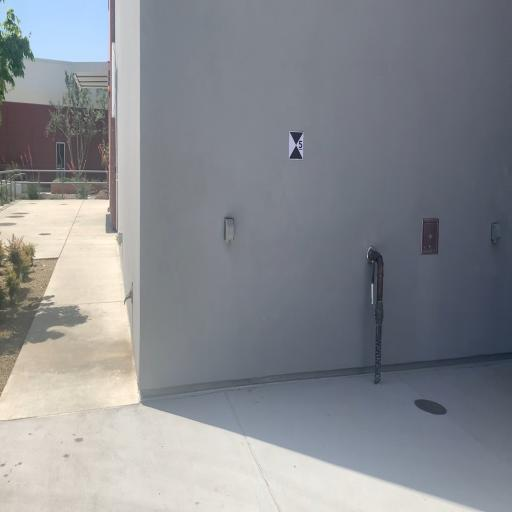target5: (289, 130, 304, 161)
